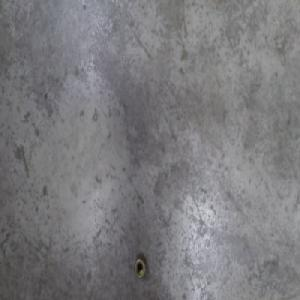Nut: (134, 255, 147, 280)
